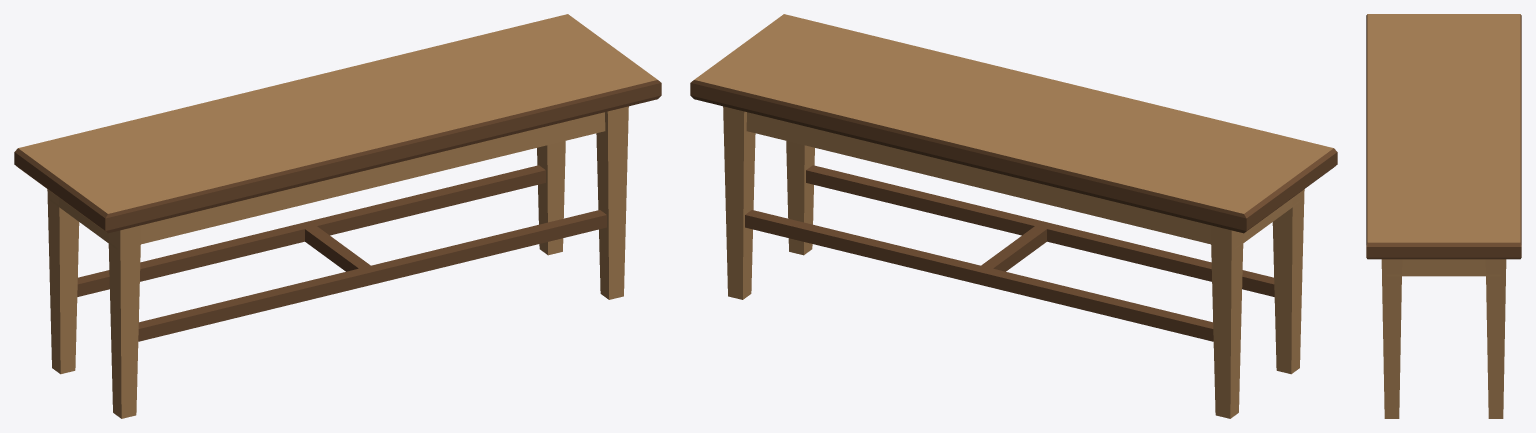
Rendered from FN_Bench_Dining.obj.
3 views of the same model, side by side, from view 1: azimuth 30°, elevation 25°; view 2: azimuth 150°, elevation 25°; view 3: azimuth 270°, elevation 25° (orthographic). The views are drawn at different scales.
Parts seen in each view (by area): view 1: FN_Bench_Dining; view 2: FN_Bench_Dining; view 3: FN_Bench_Dining.
Boxes of the visible parts, x1,y1,x2,y2 form: FN_Bench_Dining: (14, 14, 661, 418); FN_Bench_Dining: (690, 14, 1337, 418); FN_Bench_Dining: (1366, 14, 1521, 418).
Size of the model in its own units: 1.2 by 0.45 by 0.34.
1 material, 1 textured.
